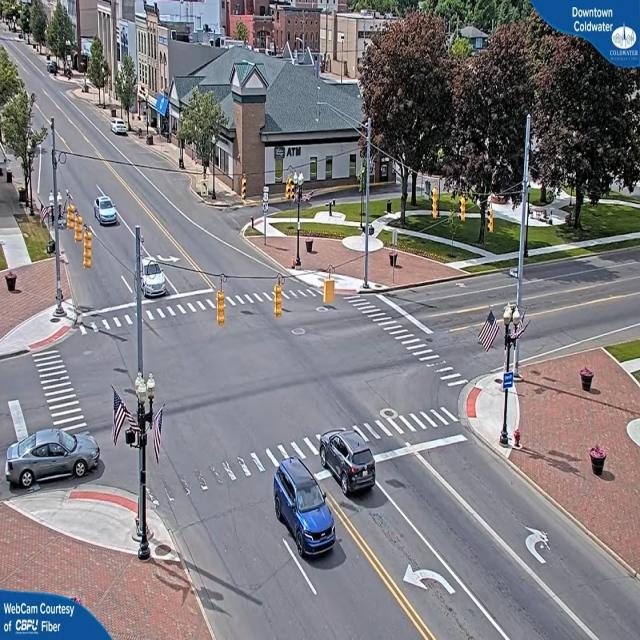car: (278, 439, 354, 529), (272, 458, 335, 558), (4, 427, 101, 490), (320, 430, 378, 495), (140, 257, 168, 301), (94, 195, 118, 225), (112, 122, 131, 138)
